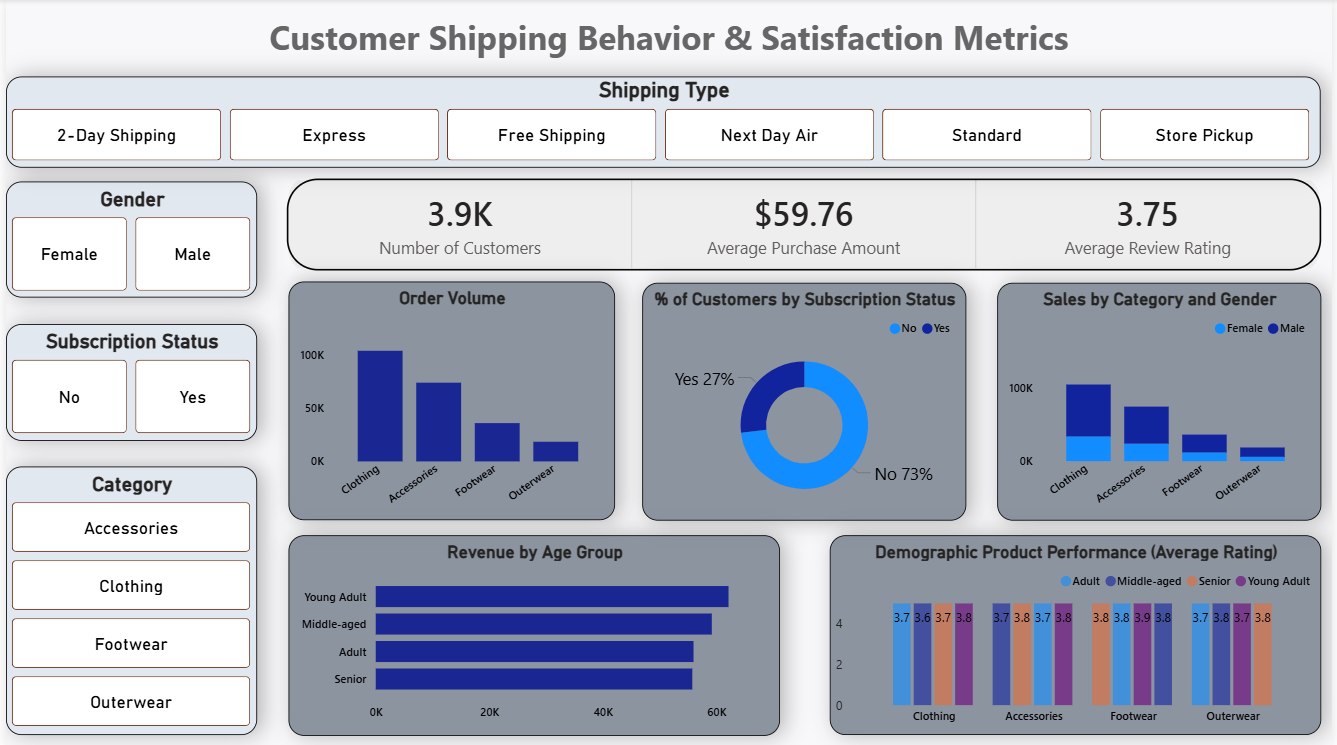

What the dashboard file says about the page in this screenshot:
{"tool":"tableau","page":{"name":"99_Dashboard_Final","canvas":[1200,700],"ordinal":0},"visuals":[{"type":"title","box":[8,8,1184,72]},{"type":"worksheet","title":"Filter_Shipping","mark":"Shape","rows":["shipping_type"],"box":[991,29,199,150]},{"type":"worksheet","title":"KPI CARDS","mark":"Automatic","box":[9,84,978,81]},{"type":"worksheet","title":"02_Revenue_Waterfall","mark":"Bar","rows":["Calculation_0915355951206409"],"cols":["Calculation_0915355884511235"],"box":[427,163,541,248]},{"type":"worksheet","title":"03_SEGMENTATION FLOW","mark":"Automatic","rows":["Calculation_0915355951206409"],"cols":["subscription_status"],"box":[0,164,446,275]},{"type":"worksheet","title":"Filter_Gender","mark":"Shape","rows":["gender"],"box":[992,195,200,150]},{"type":"worksheet","title":"Filter_Subscription","mark":"Shape","rows":["subscription_status"],"box":[992,360,200,150]},{"type":"worksheet","title":"04_SHIPPING IMPACT ANALYSIS ","mark":"Automatic","rows":["shipping_type"],"cols":["purchase_amount"],"box":[592,410,397,283]},{"type":"worksheet","title":"Filter_Category","mark":"Shape","rows":["category"],"box":[991,523,200,168]}]}

Visuals, with their boxes on the page's 1200x700 design canvas (x1, y1, x2, y2). These are canvas units, not pixel positions in the 1337x745 screenshot, which may show the page scaled, cropped or inside an application window:
title: bbox=(8, 8, 1192, 80)
"Filter_Shipping" worksheet (Shape marks): bbox=(991, 29, 1190, 179)
"KPI CARDS" worksheet: bbox=(9, 84, 987, 165)
"02_Revenue_Waterfall" worksheet (Bar marks): bbox=(427, 163, 968, 411)
"03_SEGMENTATION FLOW" worksheet: bbox=(0, 164, 446, 439)
"Filter_Gender" worksheet (Shape marks): bbox=(992, 195, 1192, 345)
"Filter_Subscription" worksheet (Shape marks): bbox=(992, 360, 1192, 510)
"04_SHIPPING IMPACT ANALYSIS " worksheet: bbox=(592, 410, 989, 693)
"Filter_Category" worksheet (Shape marks): bbox=(991, 523, 1191, 691)
